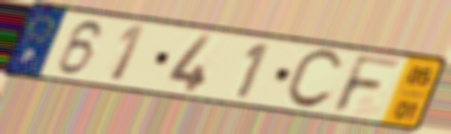1: (106, 22, 148, 83), (233, 41, 273, 100)
4: (165, 32, 218, 96)
6: (56, 18, 105, 77)
C: (281, 48, 346, 112)
F: (328, 53, 406, 117)
